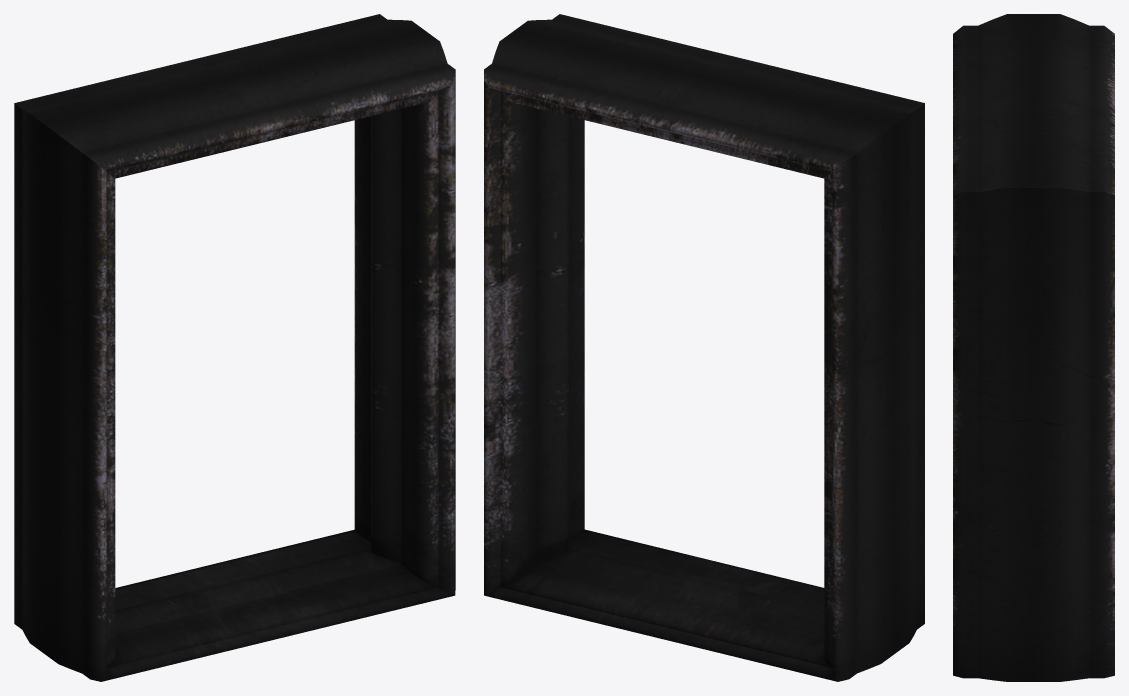
File: door_frame_rotten.dae
3 renders of one model, left to right at view 1: azimuth 30°, elevation 25°; view 2: azimuth 150°, elevation 25°; view 3: azimuth 270°, elevation 25°, orthographic. The views are drawn at different scales.
Parts seen in each view (by area): view 1: mansionbase_doorframe; view 2: mansionbase_doorframe; view 3: mansionbase_doorframe.
Part boxes in pixels (x1,y1,x2,y2): mansionbase_doorframe: (14, 14, 455, 681); mansionbase_doorframe: (484, 14, 924, 681); mansionbase_doorframe: (953, 14, 1114, 681).
Bounding box in the file's own units: 2.42 × 3.21 × 0.9526.
